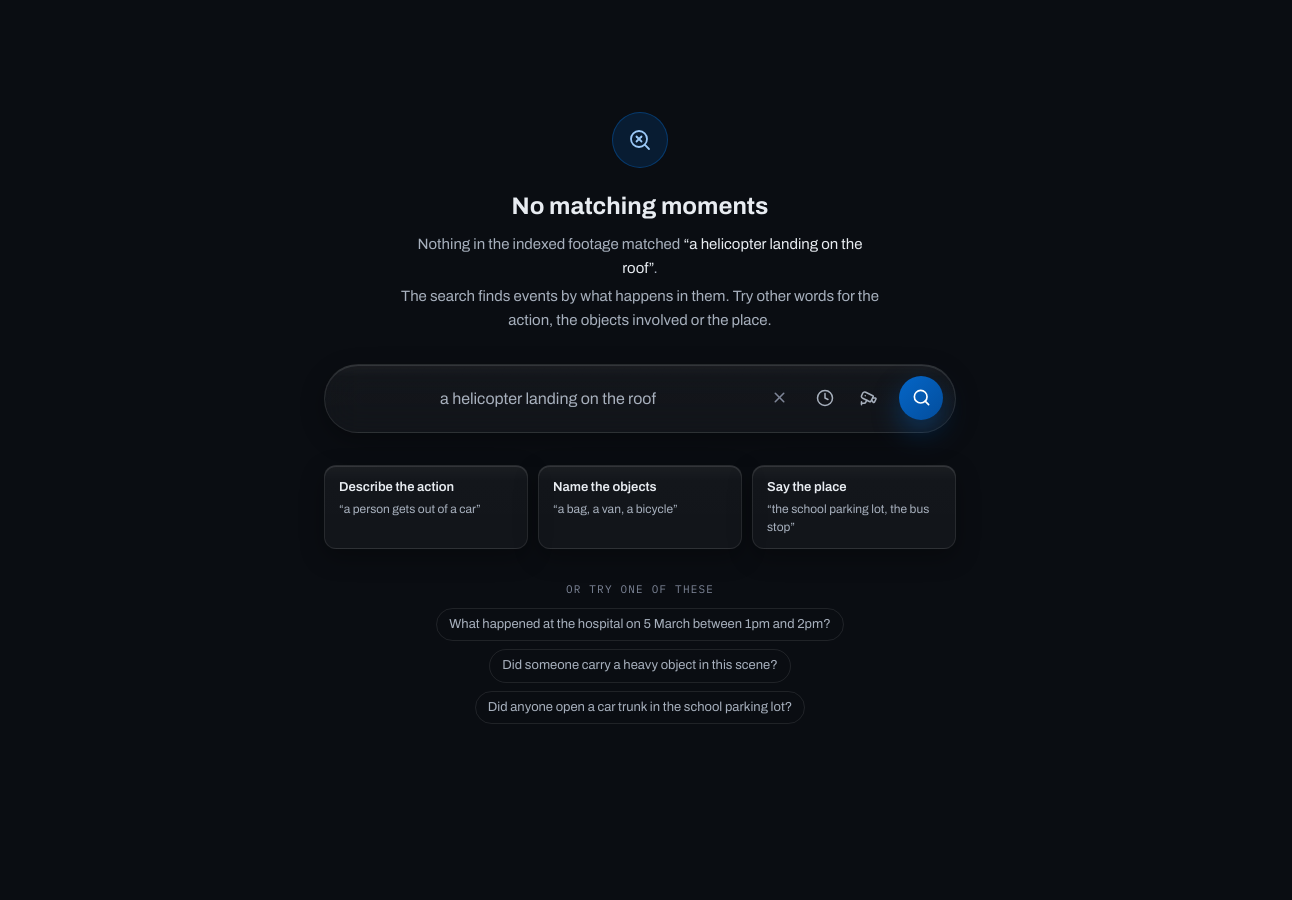
Test: Results — no matches › lets the investigator search again right there, starting from the last search
The width and height of the screenshot is (1292, 900).
Replace the text in the text box named "Search the camera network" with "a person gets out of a car". click: (640, 398)
box: [325, 365, 955, 432]
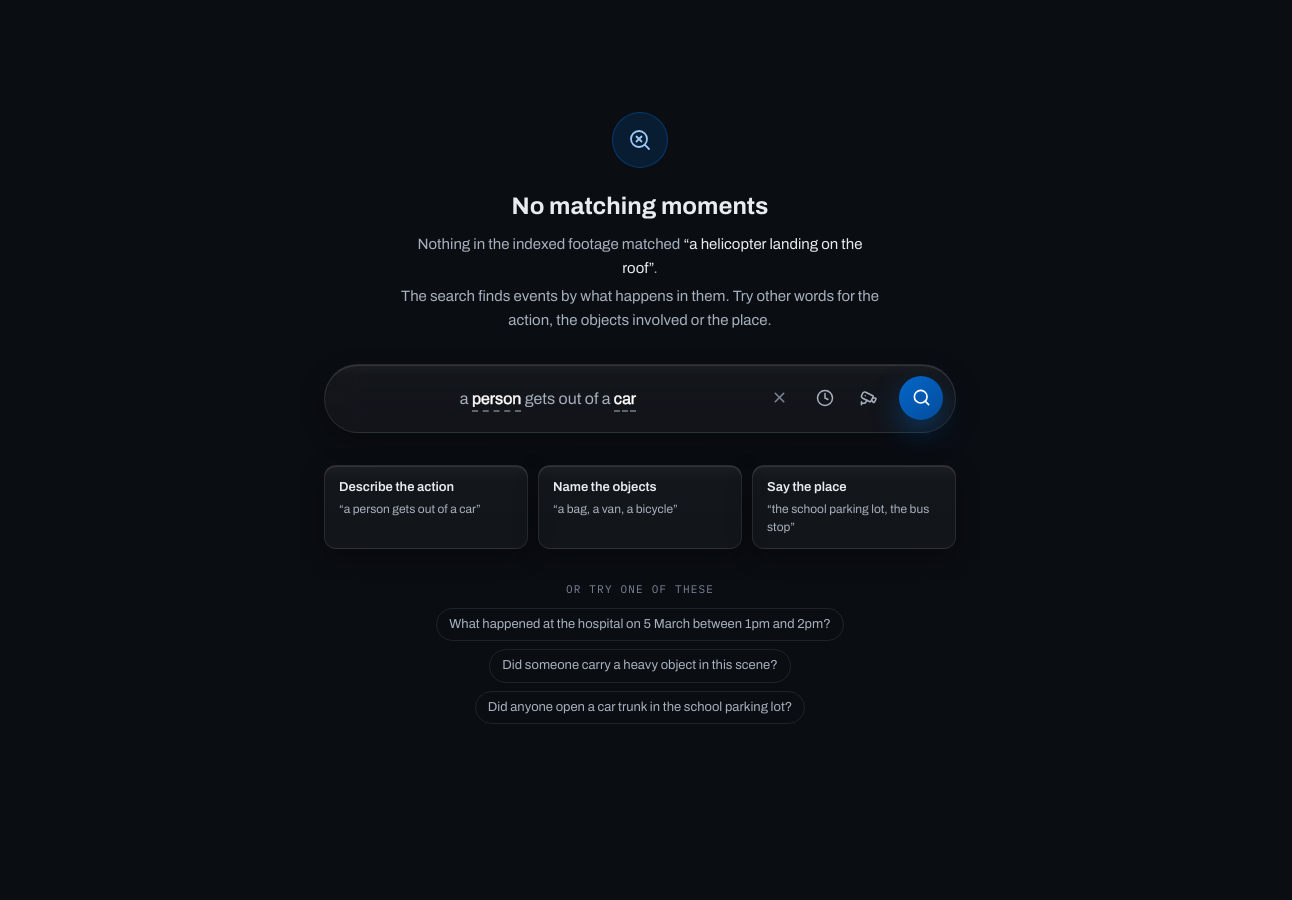
Click the button named "Search". click: (921, 398)
box: [899, 376, 943, 420]
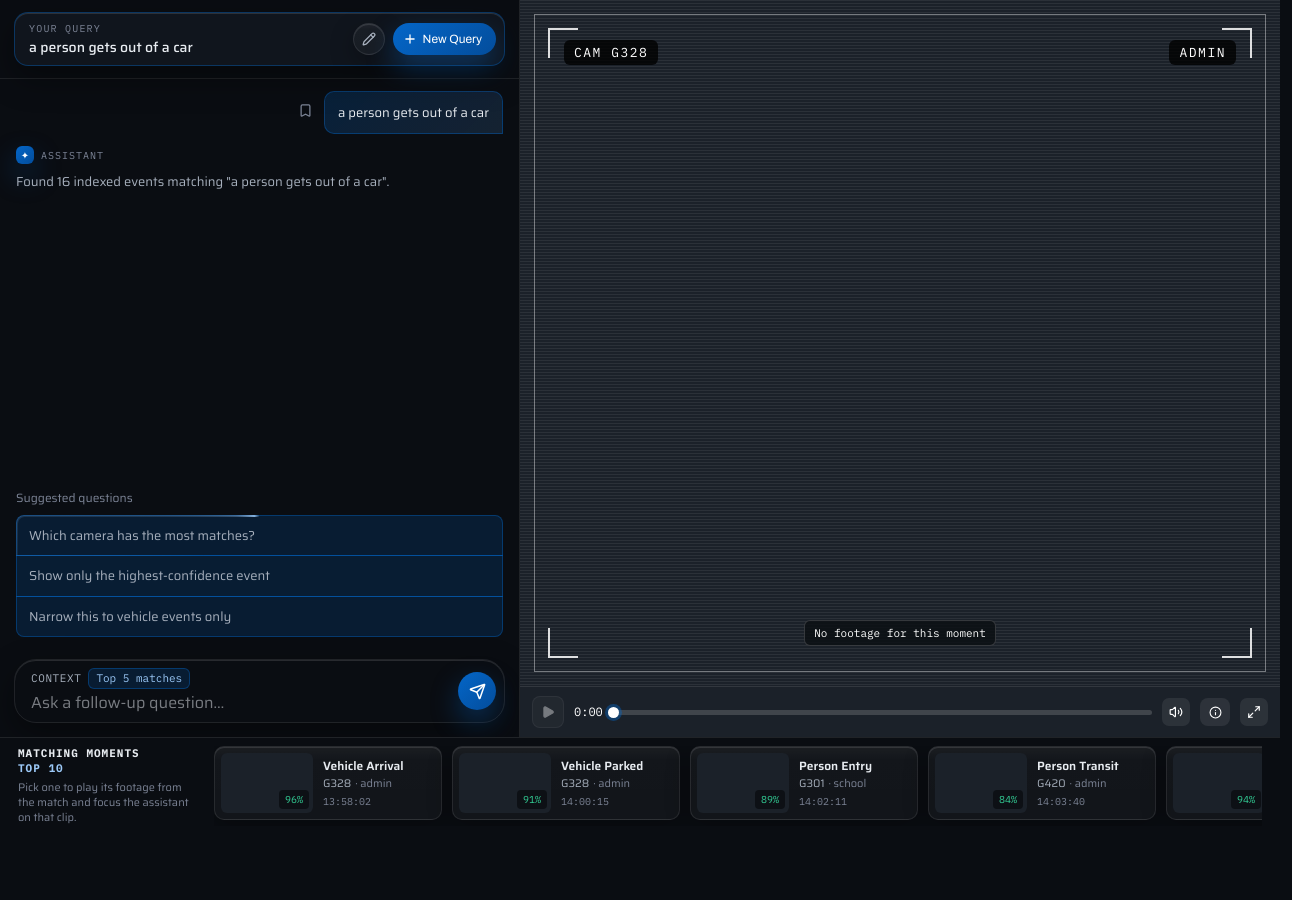
Check: the text "a person gets out of a car" below "YOUR QUERY" is shown, box [29, 36, 193, 58]
